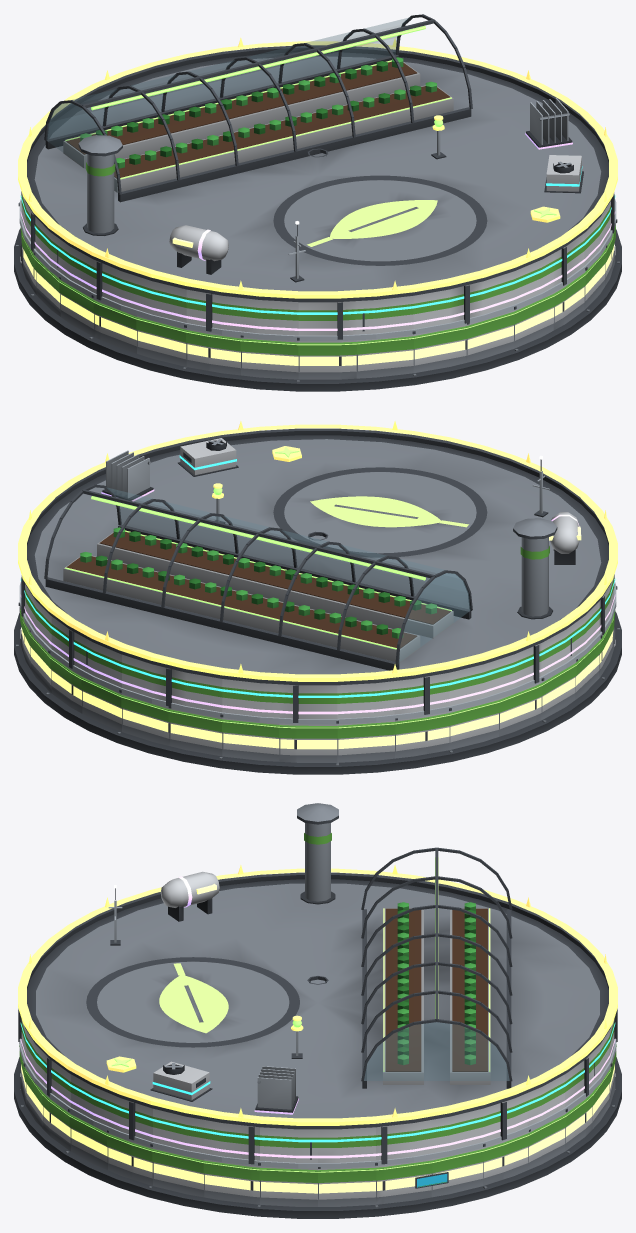
Rendered from kitchen_l.glb.
3 renders of one model, top to bottom at view 1: azimuth 30°, elevation 25°; view 2: azimuth 150°, elevation 25°; view 3: azimuth 270°, elevation 25°, orthographic.
Parts seen in each view (by area): view 1: Roof, Base, L4, Wall_21, Wall_20, Wall_22, Wall_19, Wall_23, Wall_18, Wall_24, Upper_21, Upper_20 (+25 smaller); view 2: Roof, Base, L4, Wall_10, Wall_11, Wall_09, Wall_12, Wall_08, Wall_13, Wall_07, L3, Upper_10 (+25 smaller); view 3: Roof, Base, L4, Wall_00, Wall_31, Wall_30, Wall_29, Wall_01, L3, Wall_02, Wall_28, Upper_01 (+22 smaller).
Boxes of the visible parts, x1=… form: Roof: x1=25, y1=14, x2=610, y2=302; Base: x1=14, y1=228, x2=621, y2=391; L4: x1=169, y1=98, x2=572, y2=274; Wall_21: x1=298, y1=340, x2=356, y2=379; Wall_20: x1=240, y1=335, x2=298, y2=379; Wall_22: x1=356, y1=335, x2=413, y2=378; Wall_19: x1=186, y1=329, x2=240, y2=375; Wall_23: x1=413, y1=324, x2=467, y2=373; Wall_18: x1=136, y1=315, x2=186, y2=366; Wall_24: x1=466, y1=311, x2=514, y2=362; Upper_21: x1=298, y1=301, x2=356, y2=339; Upper_20: x1=241, y1=298, x2=298, y2=335; Roof: x1=25, y1=428, x2=610, y2=685; Base: x1=14, y1=611, x2=621, y2=774; L4: x1=101, y1=450, x2=581, y2=564; Wall_10: x1=279, y1=723, x2=337, y2=762; Wall_11: x1=337, y1=720, x2=395, y2=762; Wall_09: x1=222, y1=718, x2=279, y2=761; Wall_12: x1=395, y1=712, x2=449, y2=758; Wall_08: x1=168, y1=706, x2=222, y2=756; Wall_13: x1=449, y1=699, x2=499, y2=750; Wall_07: x1=121, y1=694, x2=169, y2=745; L3: x1=178, y1=438, x2=328, y2=540; Upper_10: x1=279, y1=684, x2=337, y2=722; Roof: x1=25, y1=803, x2=610, y2=1129; Base: x1=14, y1=1057, x2=621, y2=1218; L4: x1=160, y1=871, x2=298, y2=1114; Wall_00: x1=318, y1=1166, x2=376, y2=1206; Wall_31: x1=259, y1=1166, x2=317, y2=1206; Wall_30: x1=203, y1=1159, x2=259, y2=1204; Wall_29: x1=152, y1=1148, x2=204, y2=1197; Wall_01: x1=376, y1=1159, x2=432, y2=1204; L3: x1=150, y1=976, x2=328, y2=1101; Wall_02: x1=431, y1=1148, x2=483, y2=1197; Wall_28: x1=107, y1=1130, x2=152, y2=1185; Upper_01: x1=376, y1=1120, x2=431, y2=1164.
Bounding box in the file's own units: 17.76 × 5.74 × 17.76.
